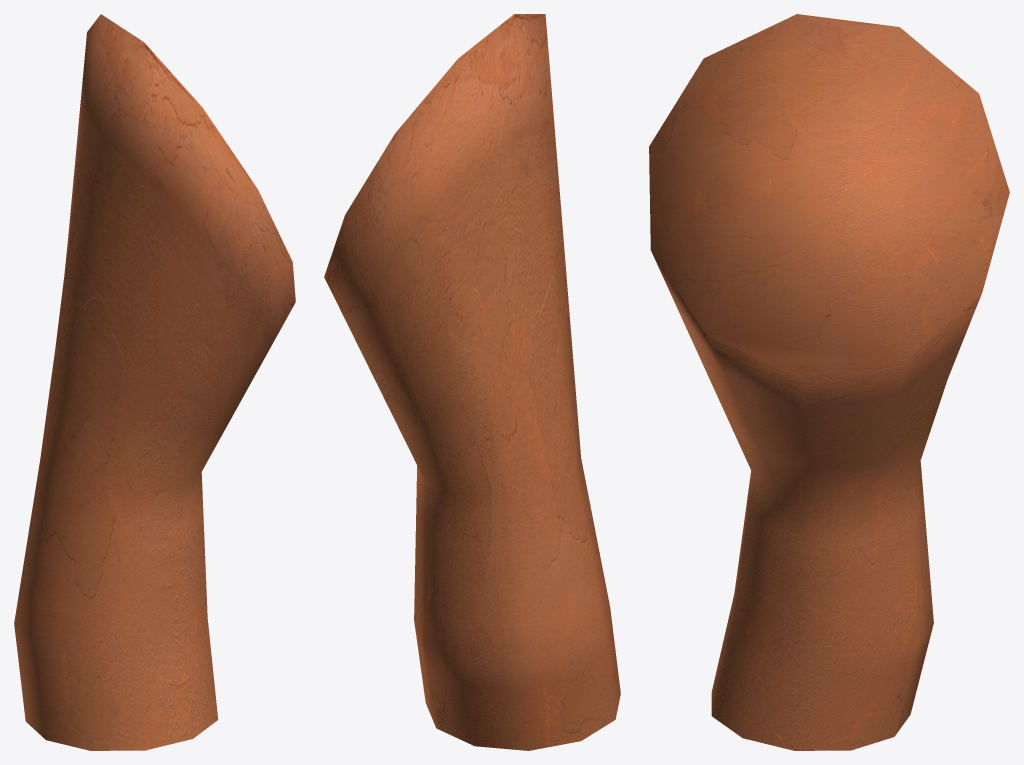
File: pierna.obj
3 renders of one model, left to right at view 1: azimuth 30°, elevation 25°; view 2: azimuth 150°, elevation 25°; view 3: azimuth 270°, elevation 25°, orthographic. The views are drawn at different scales.
Visible parts, largest first — view 1: pierna; view 2: pierna; view 3: pierna.
Boxes of the visible parts, bbox=[...] form: pierna: bbox=[14, 14, 295, 750]; pierna: bbox=[324, 14, 620, 750]; pierna: bbox=[649, 14, 1009, 750].
Bounding box in the file's own units: 1.1 × 3.18 × 1.47.
1 material, 1 textured.
